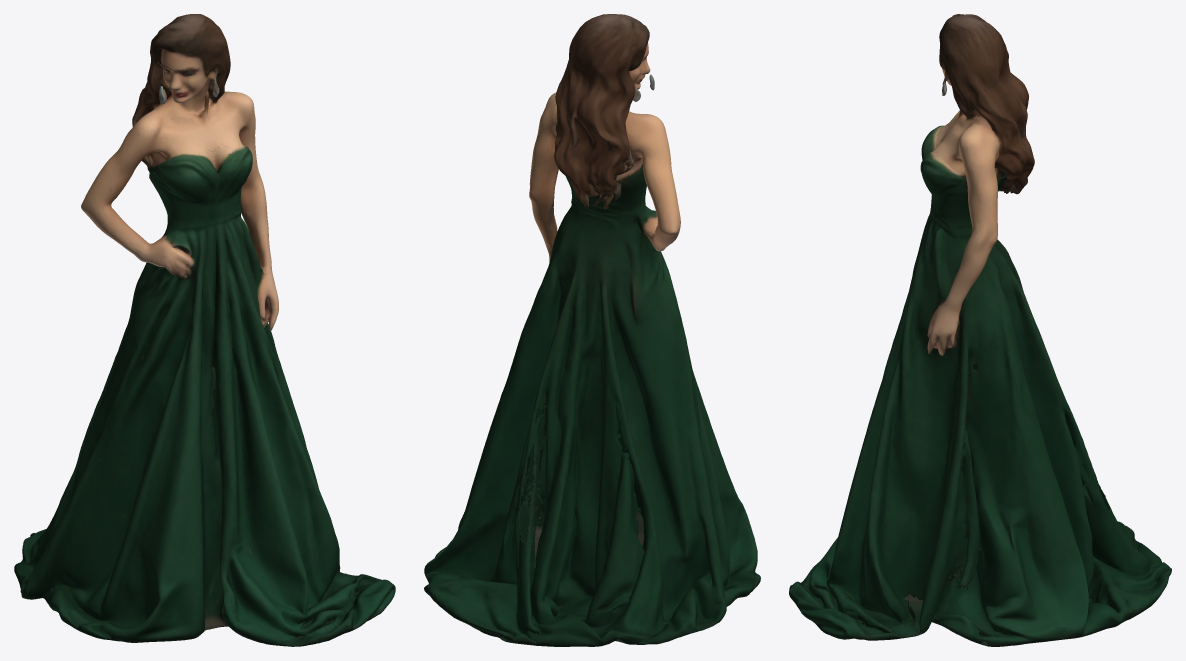
File: view_glb.glb
The picture shows the model from 3 angles, left to right: view 1: azimuth 30°, elevation 25°; view 2: azimuth 150°, elevation 25°; view 3: azimuth 270°, elevation 25°; orthographic projection. The views are drawn at different scales.
Parts seen in each view (by area): view 1: world; view 2: world; view 3: world.
Boxes of the visible parts, <box> form: world: <box>14,14,395,646</box>; world: <box>424,14,760,646</box>; world: <box>789,14,1171,646</box>.
Size of the model in its own units: 0.5297 by 0.9947 by 0.6171.
1 material, 1 textured.
